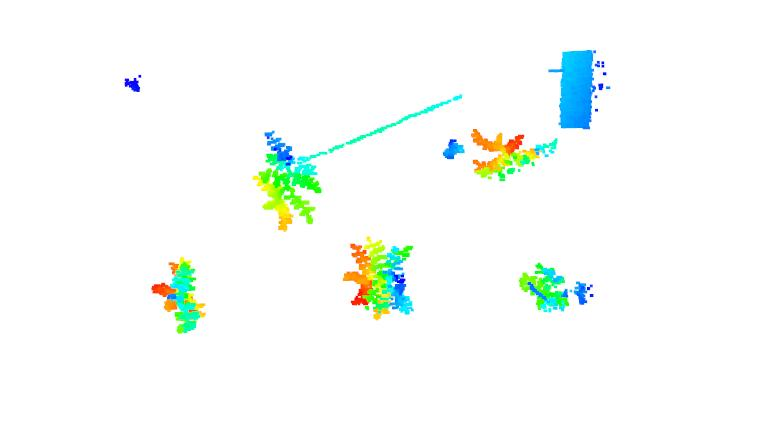chickpea: (255, 131, 322, 233), (344, 234, 415, 324), (467, 128, 559, 183), (152, 258, 209, 334), (518, 261, 592, 314)
